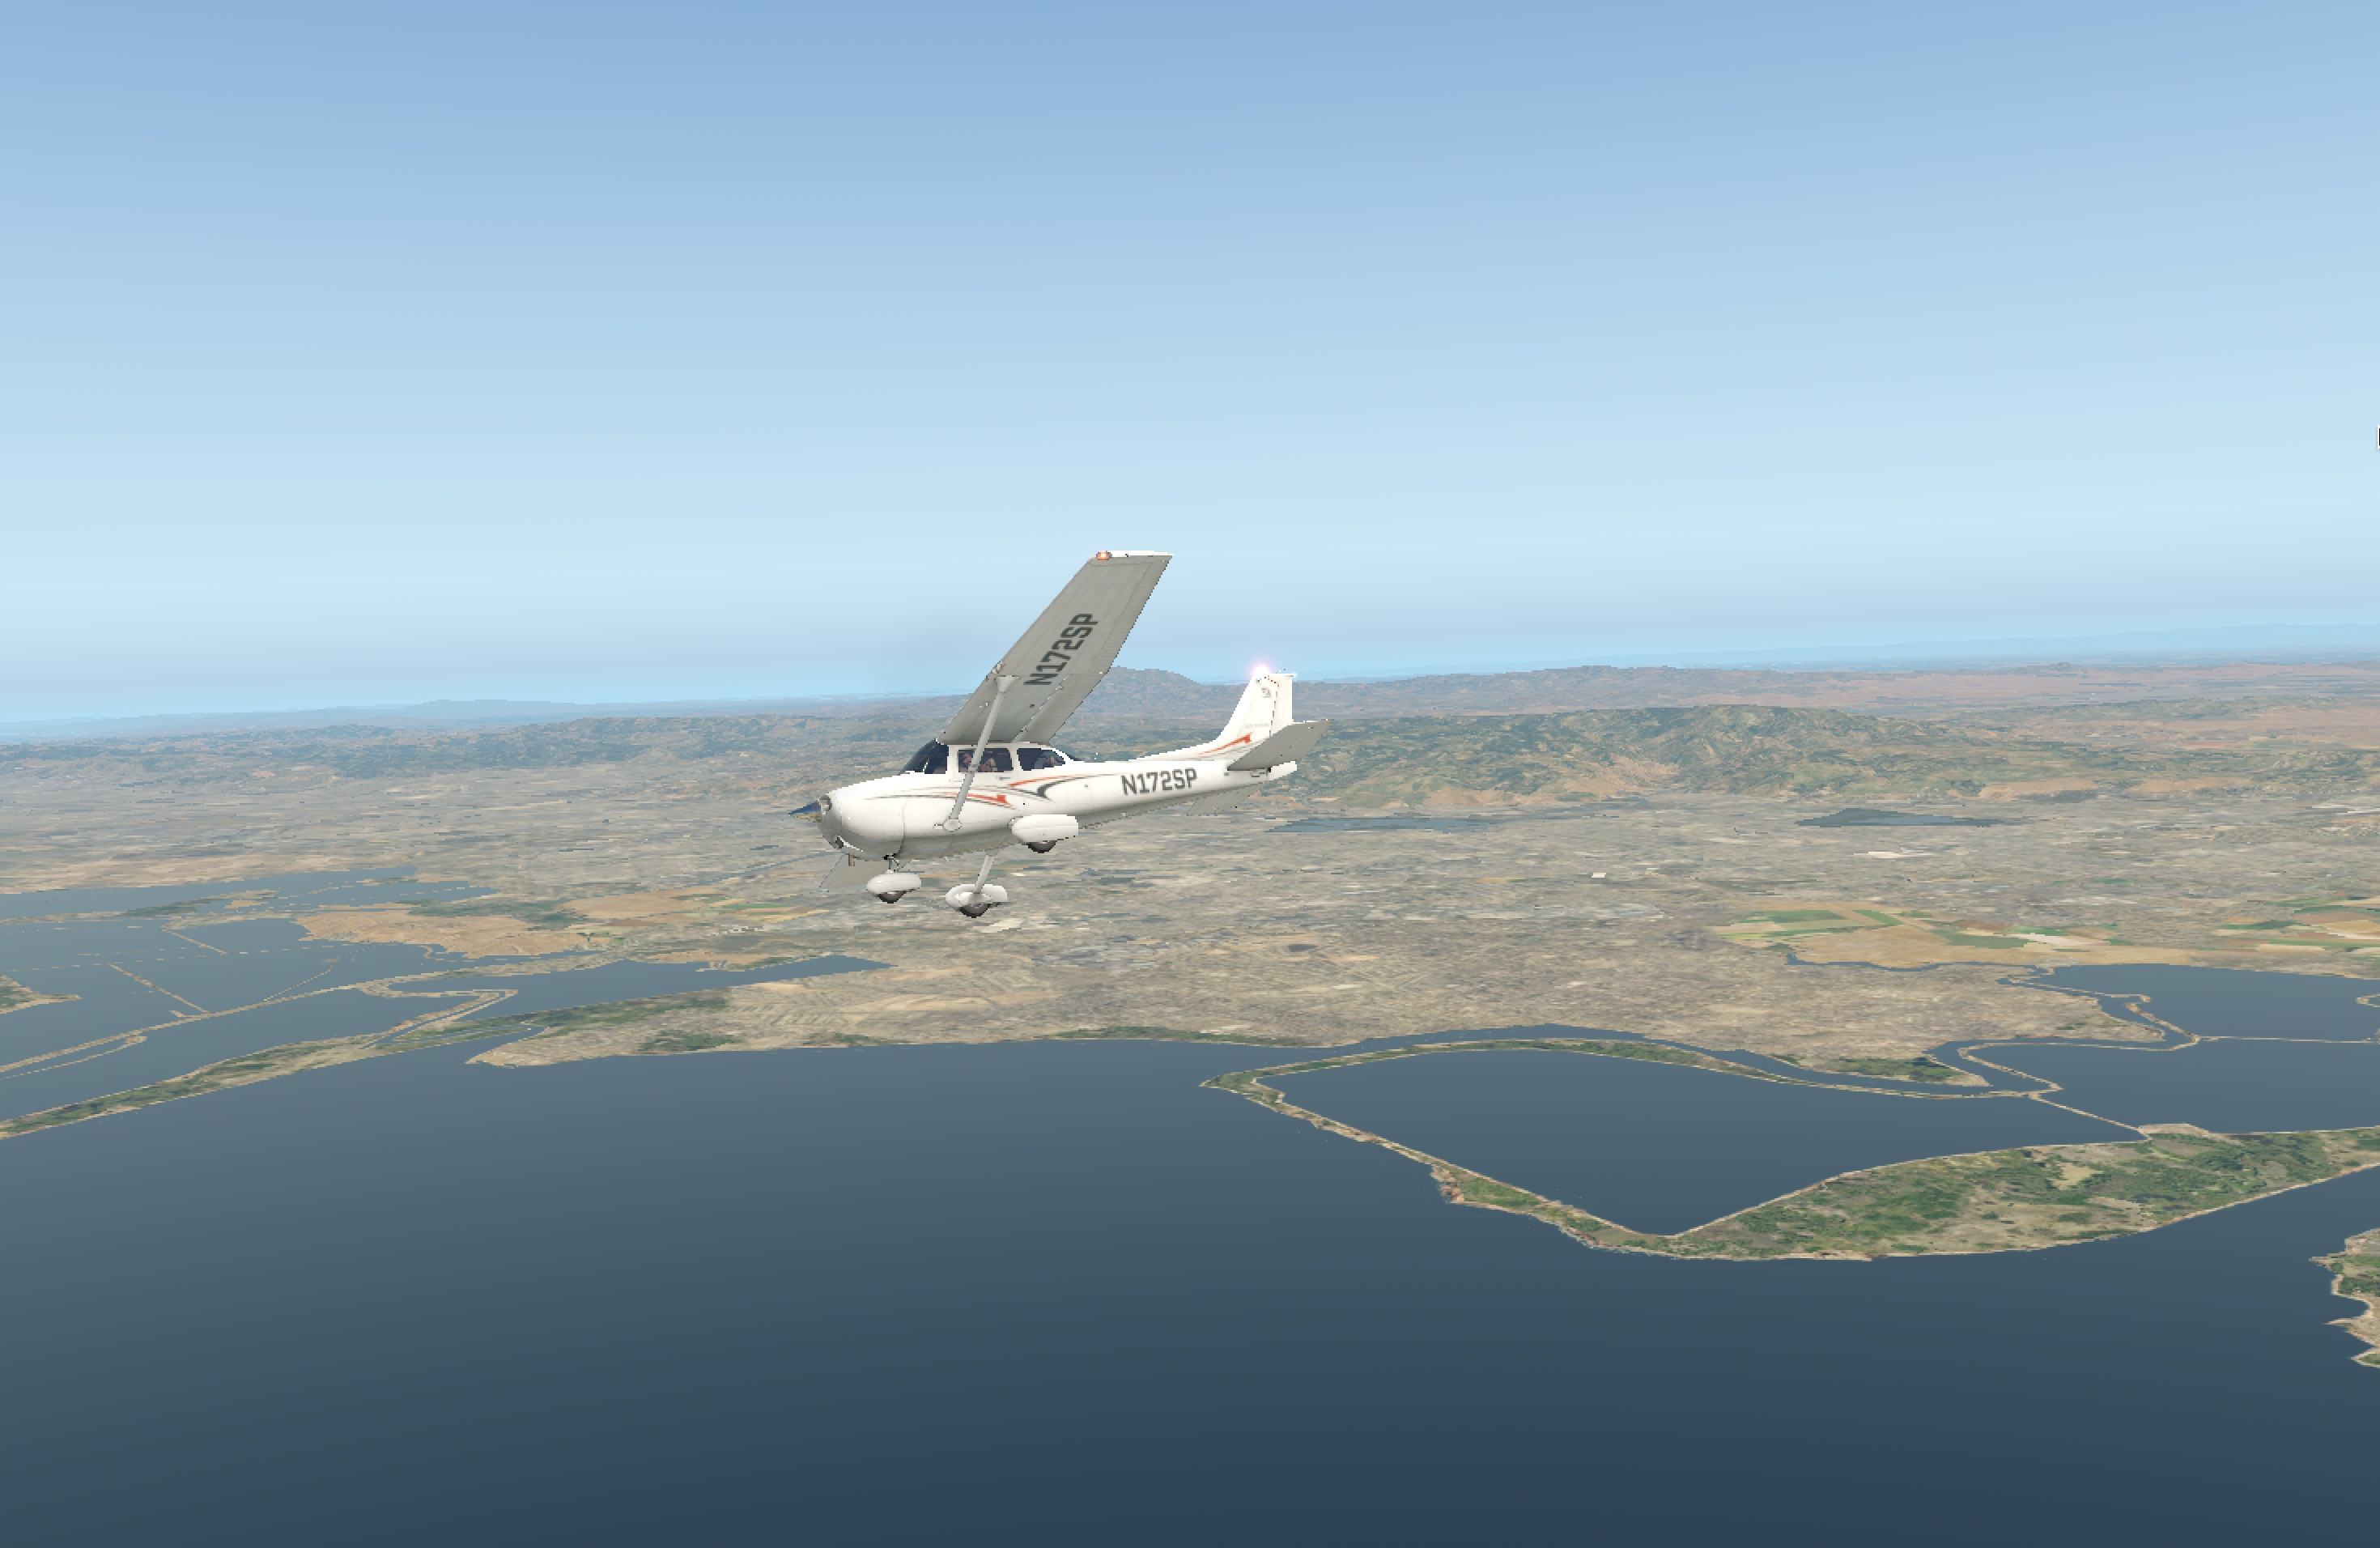aircraft: (674, 685, 1255, 903)
